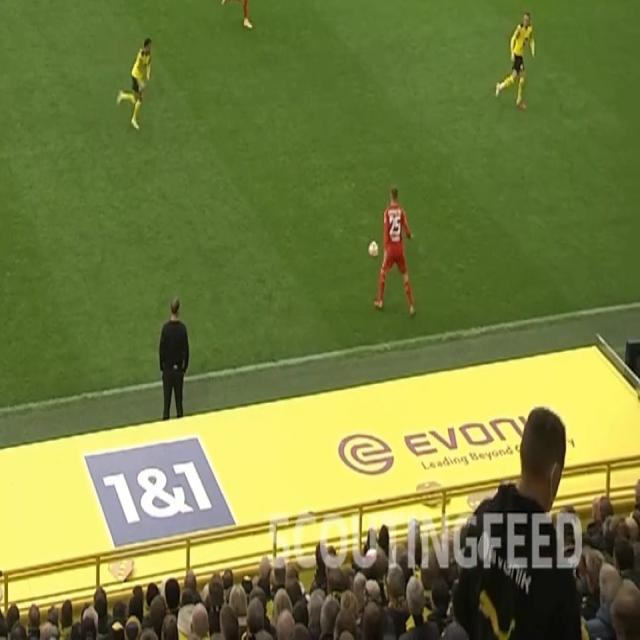ball: (367, 239, 380, 259)
